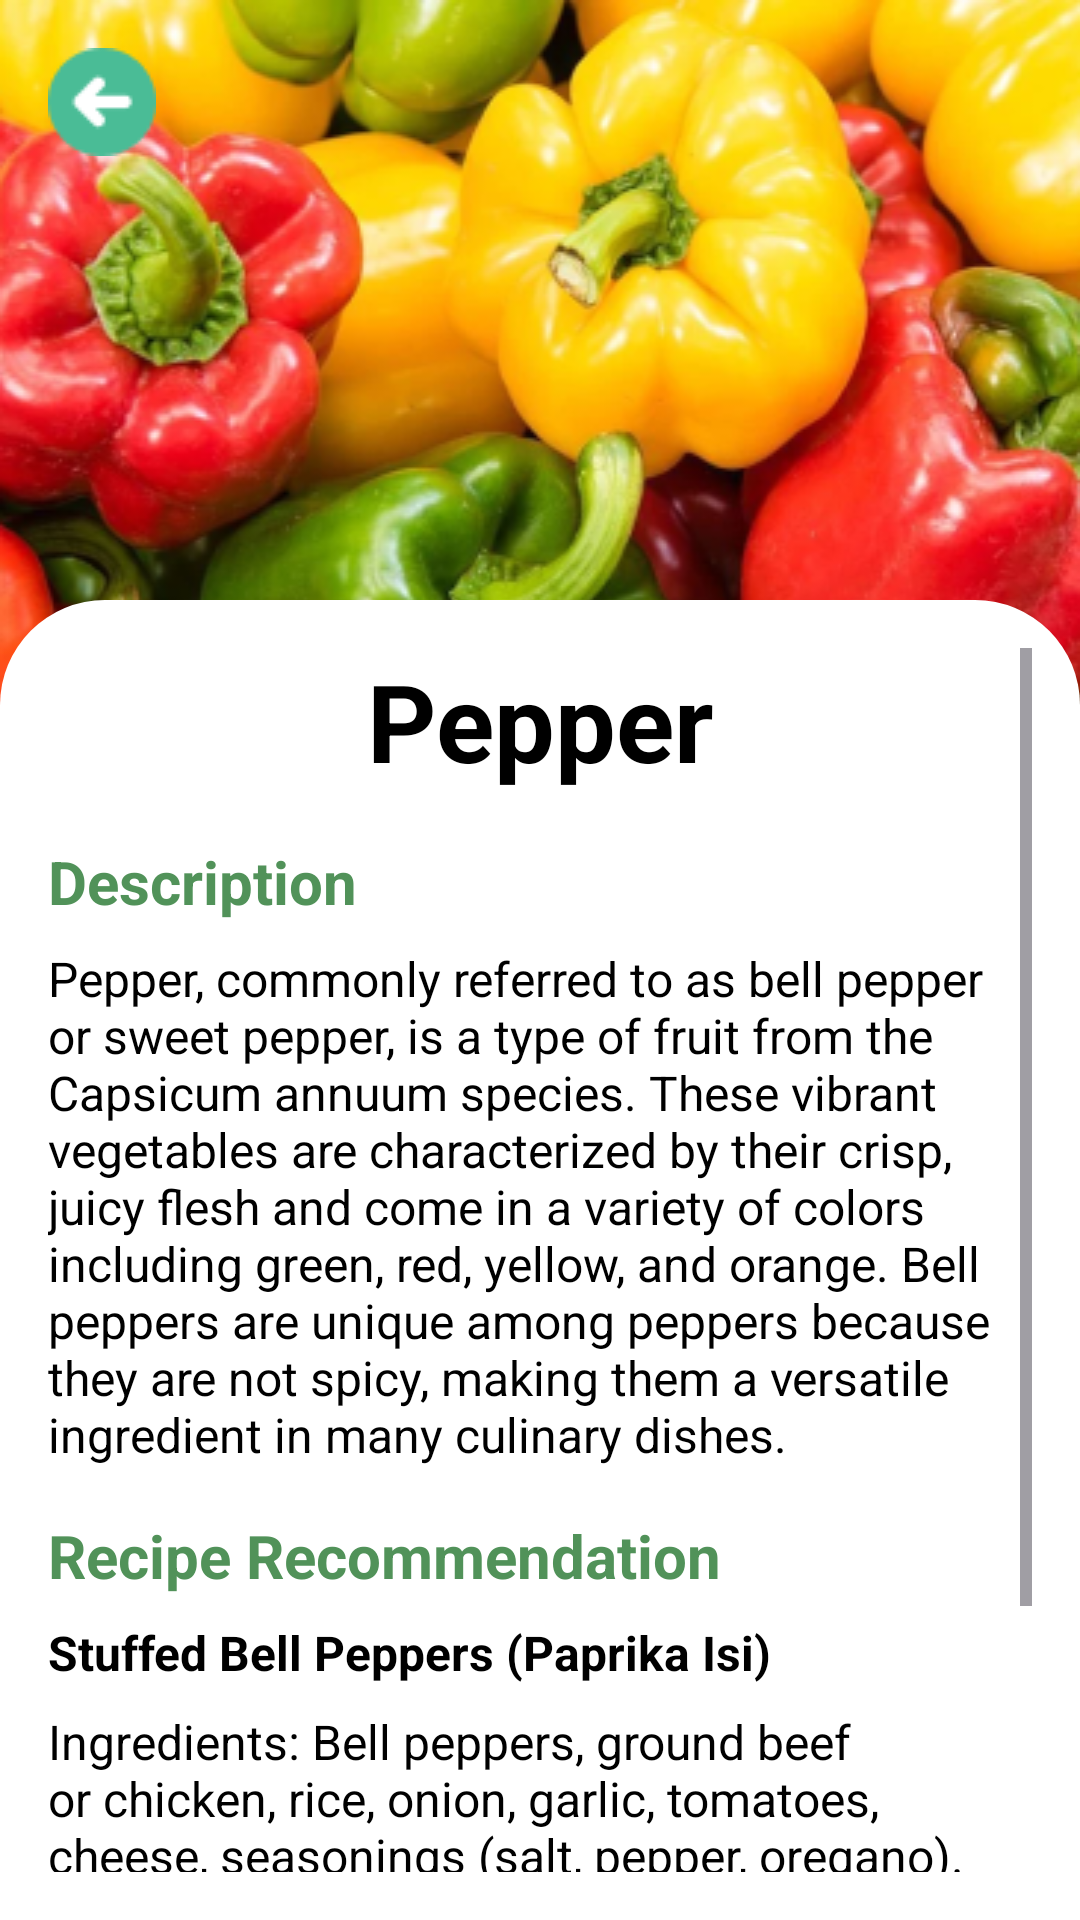

Where to tap for icons on this 1080x1920 app screen, as [x,y]:
iconback: [102,102]
